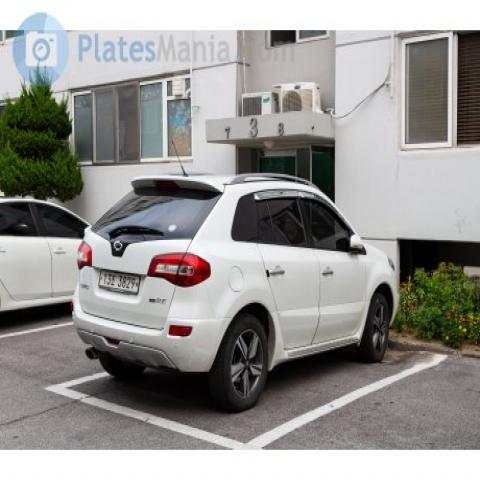LP: (92, 258, 148, 300)
